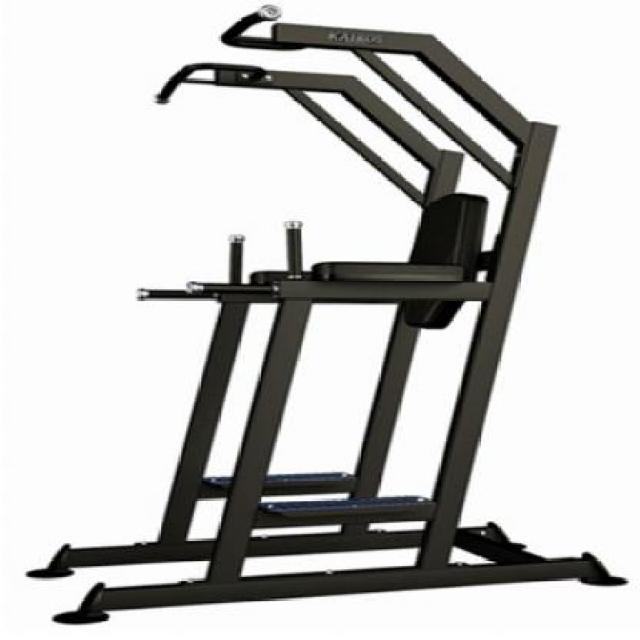chinning dipping: (32, 6, 630, 625)
